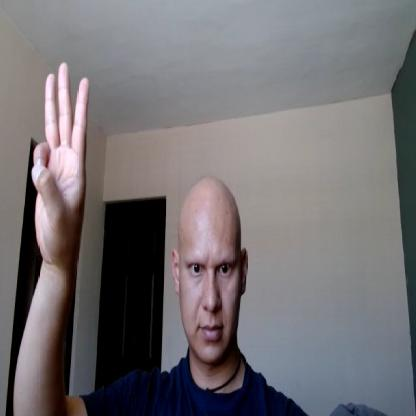W: (30, 59, 92, 252)
